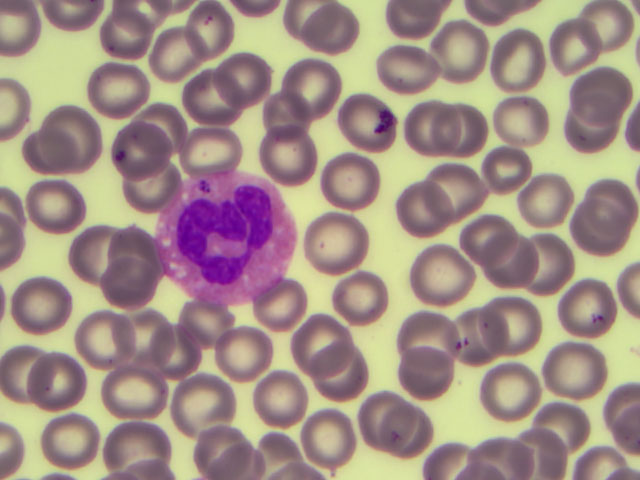RBC: (317, 415, 381, 480), (474, 415, 538, 480), (576, 415, 640, 480), (85, 56, 149, 120), (87, 6, 151, 70), (154, 23, 218, 87), (165, 3, 229, 67), (215, 38, 279, 102), (177, 70, 241, 134), (177, 128, 241, 192), (146, 91, 210, 155), (102, 121, 166, 185), (129, 153, 193, 217), (42, 102, 106, 166), (19, 134, 83, 198), (23, 175, 87, 239), (62, 222, 126, 286), (104, 210, 168, 274), (99, 250, 163, 314), (70, 305, 134, 369), (11, 272, 75, 336), (31, 347, 95, 411), (8, 355, 72, 419), (38, 409, 102, 473), (97, 411, 161, 475), (102, 364, 166, 428), (108, 298, 172, 362), (143, 324, 207, 388), (174, 290, 238, 354), (215, 312, 279, 376), (173, 372, 237, 436), (188, 411, 252, 475), (245, 415, 309, 479), (253, 360, 317, 424), (304, 345, 368, 409), (283, 301, 347, 365), (253, 276, 317, 340), (331, 262, 395, 326), (300, 213, 364, 277), (321, 158, 385, 222), (327, 97, 391, 161), (261, 122, 325, 186), (259, 86, 323, 150), (278, 44, 342, 108), (366, 36, 430, 100), (423, 16, 487, 80), (480, 21, 544, 85), (557, 21, 621, 85), (569, 2, 633, 66), (571, 55, 635, 119), (564, 89, 628, 153), (576, 156, 640, 220), (568, 210, 632, 274), (516, 173, 580, 237), (481, 137, 545, 201), (491, 86, 555, 150), (437, 102, 501, 166), (410, 92, 474, 156), (432, 156, 496, 220), (395, 183, 459, 247), (413, 243, 477, 307), (461, 206, 525, 270), (495, 248, 559, 312), (527, 229, 591, 293), (551, 275, 615, 339), (491, 297, 555, 361), (441, 302, 505, 366), (408, 305, 472, 369), (395, 340, 459, 404), (345, 391, 409, 455), (377, 407, 441, 471), (512, 415, 576, 479), (515, 376, 579, 440), (479, 347, 543, 411), (544, 333, 608, 397), (294, 1, 358, 64)
WBC: (155, 172, 296, 306)
